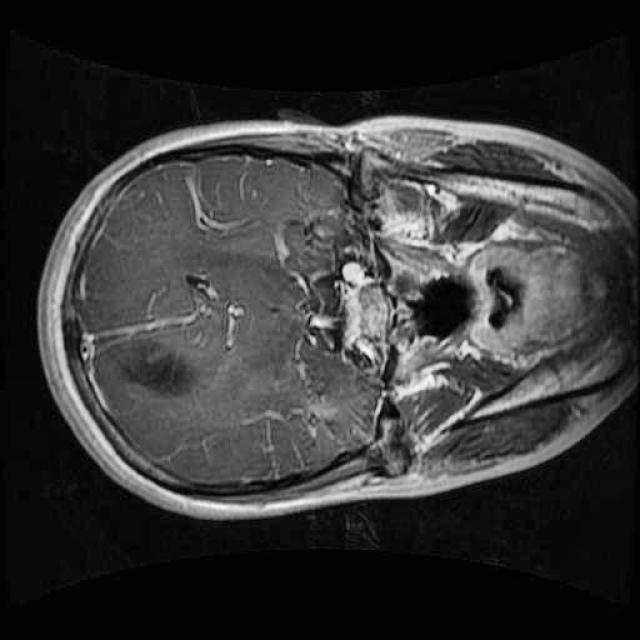Non-Tumor: (80, 304, 228, 421)
